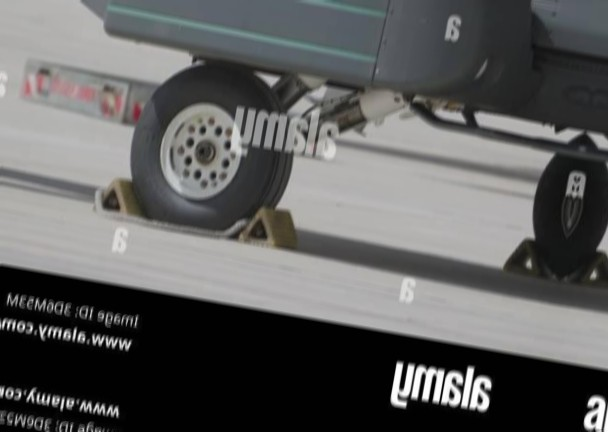chock: (89, 174, 155, 225), (237, 202, 303, 251), (500, 234, 561, 280), (563, 244, 608, 291)
wheel: (120, 50, 306, 240), (519, 144, 580, 276), (561, 151, 608, 283)
